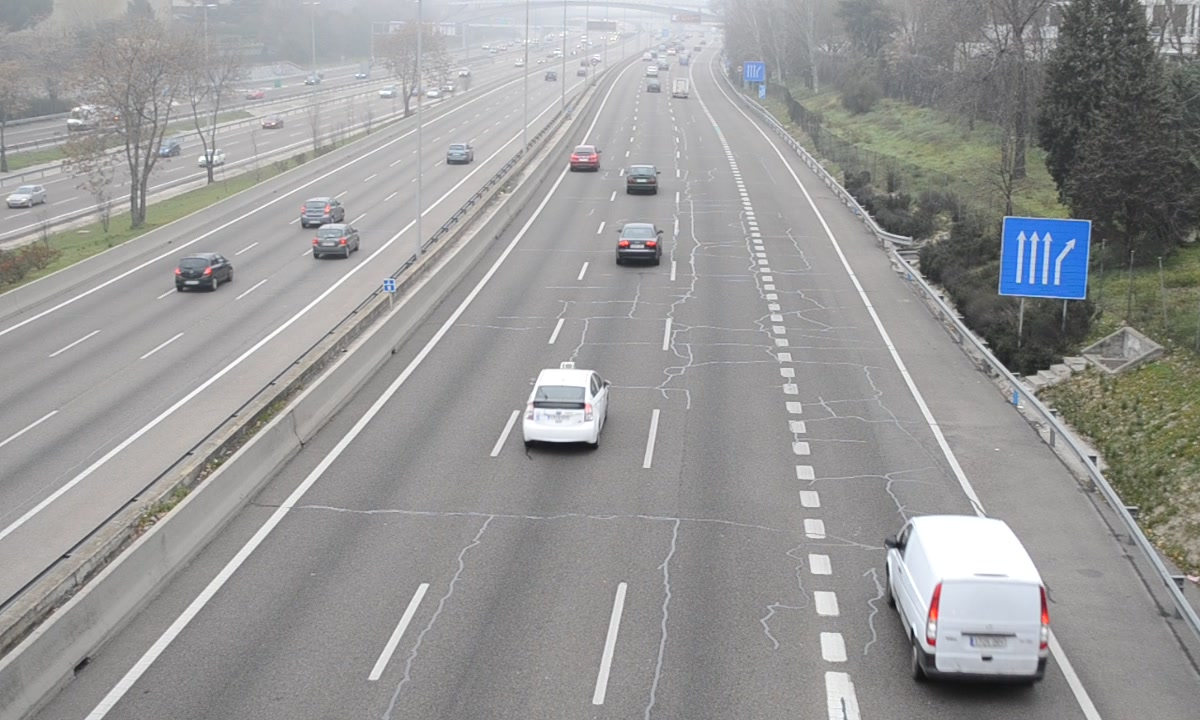car: (522, 368, 607, 446), (617, 221, 659, 264), (625, 163, 659, 195), (568, 144, 600, 171)
van: (888, 516, 1048, 689)
